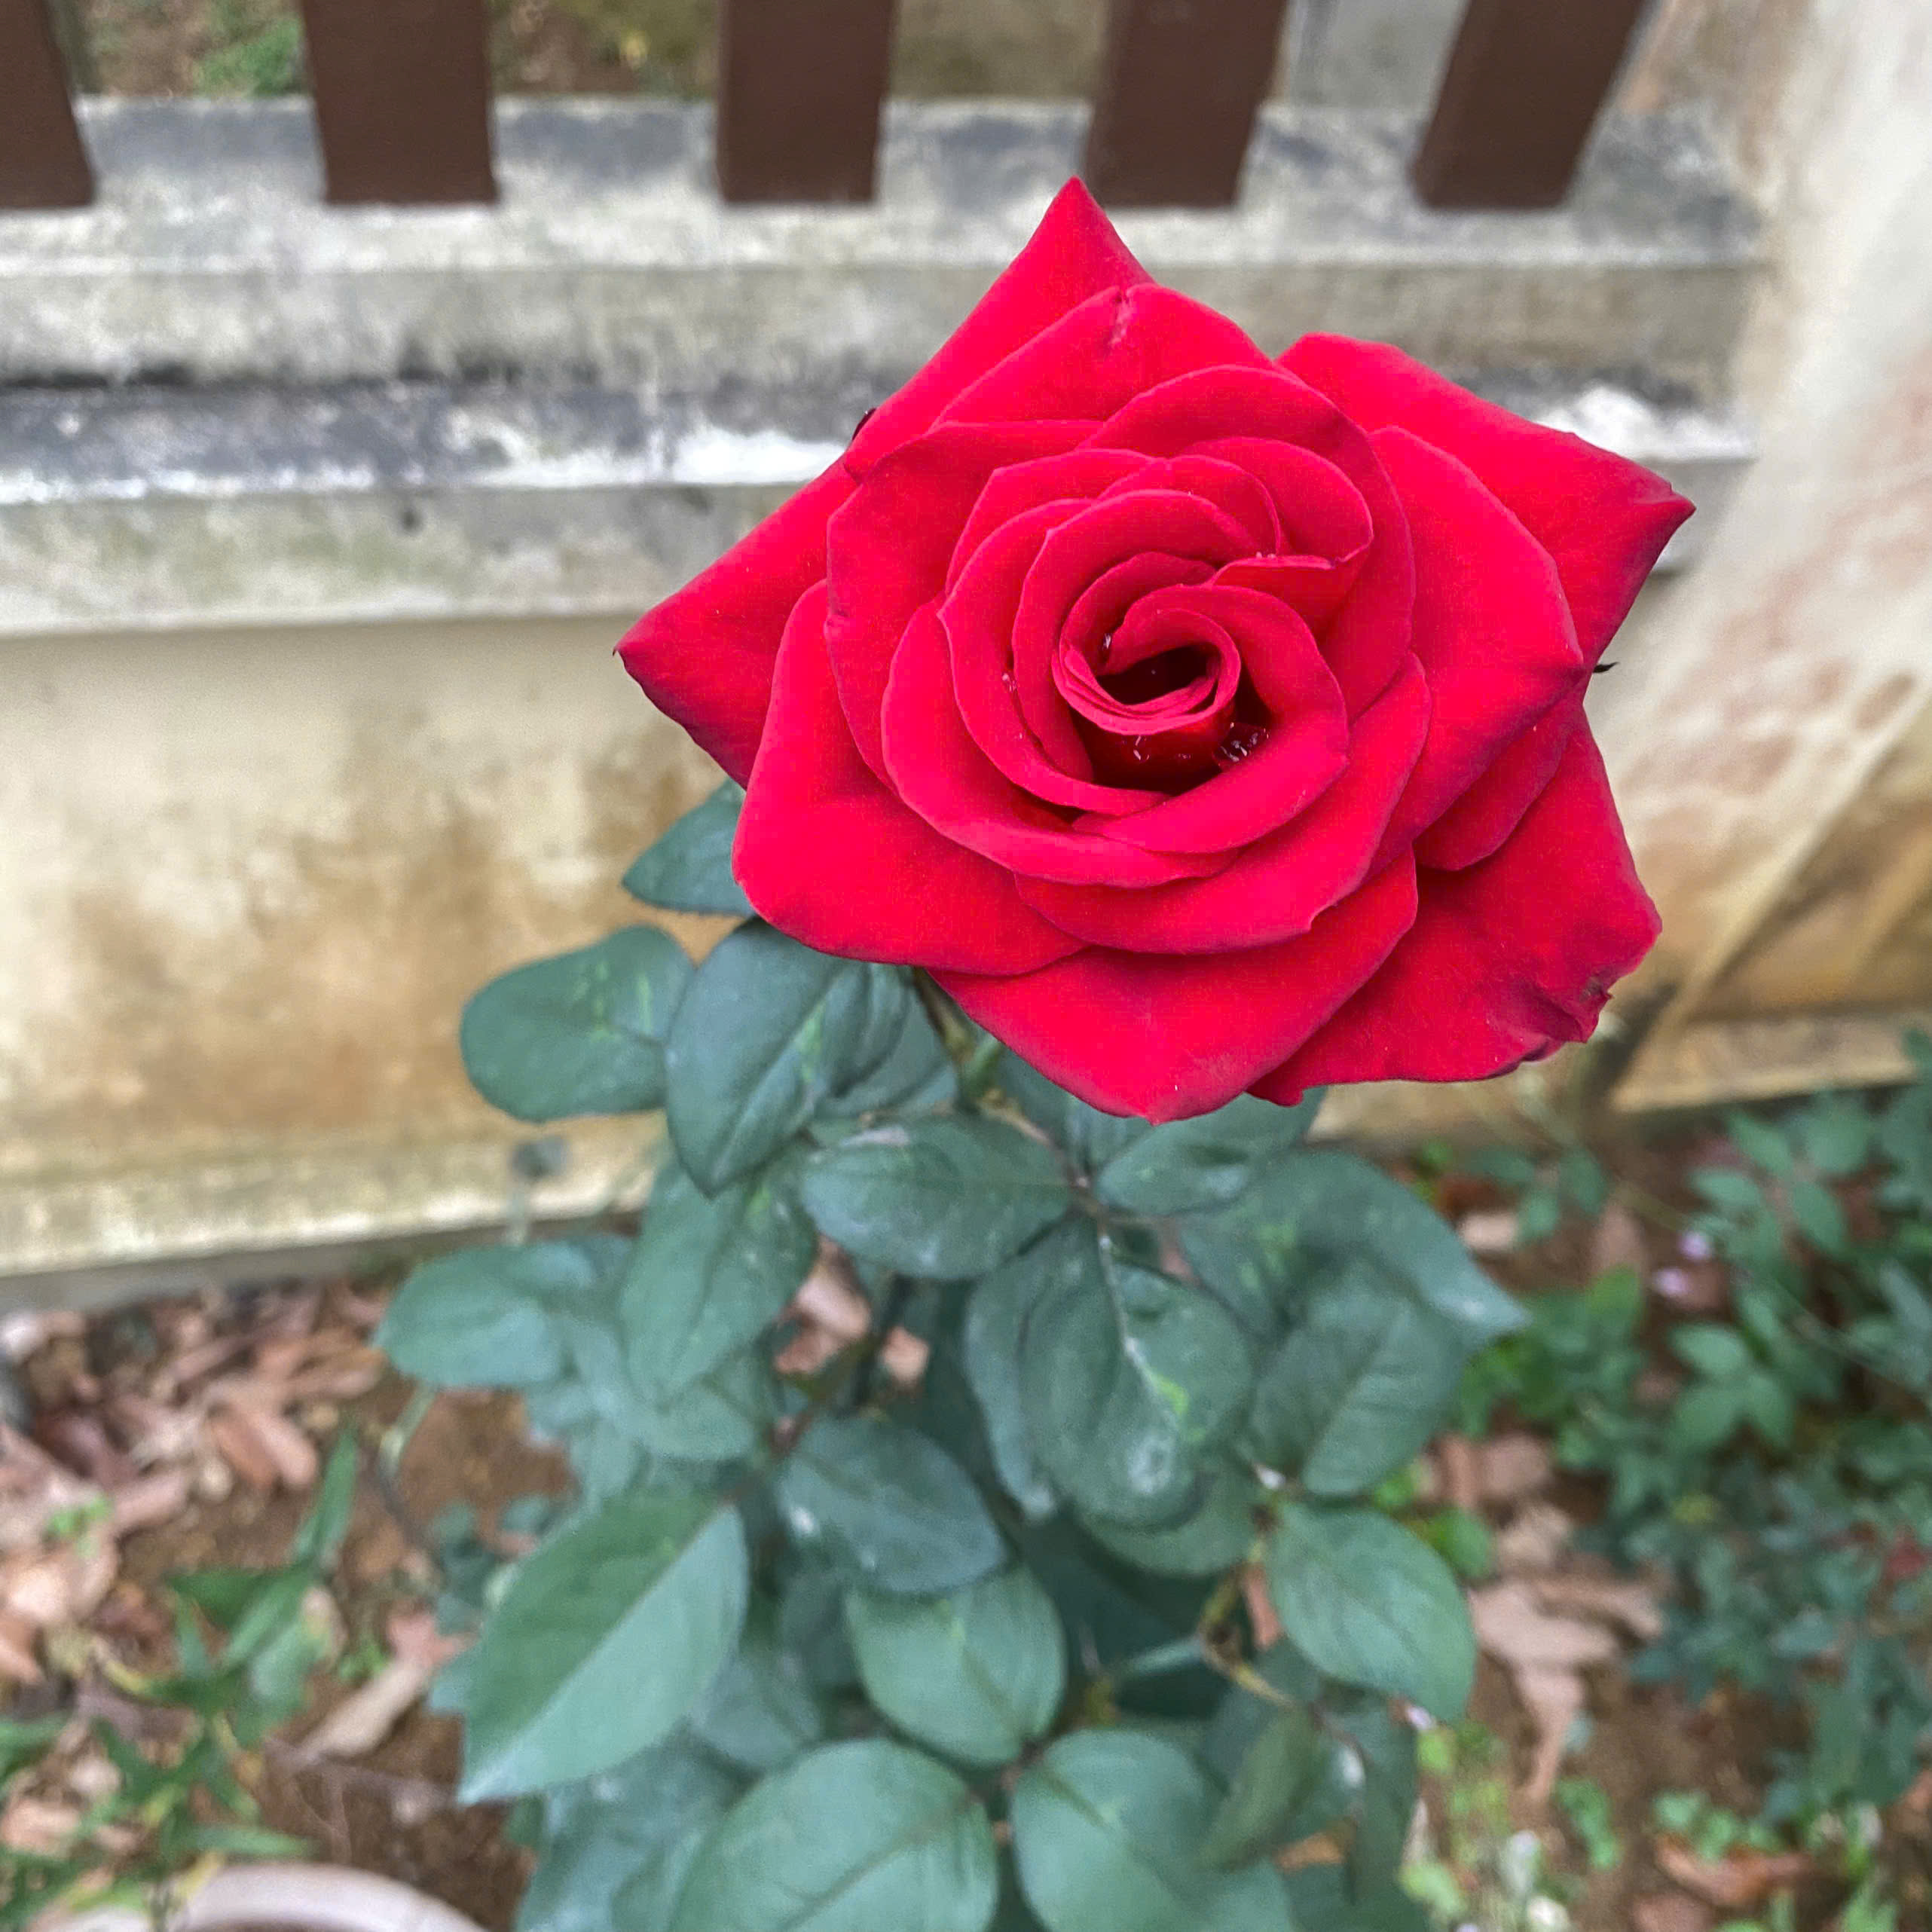hoa_hong_do: (437, 156, 1706, 1930)
